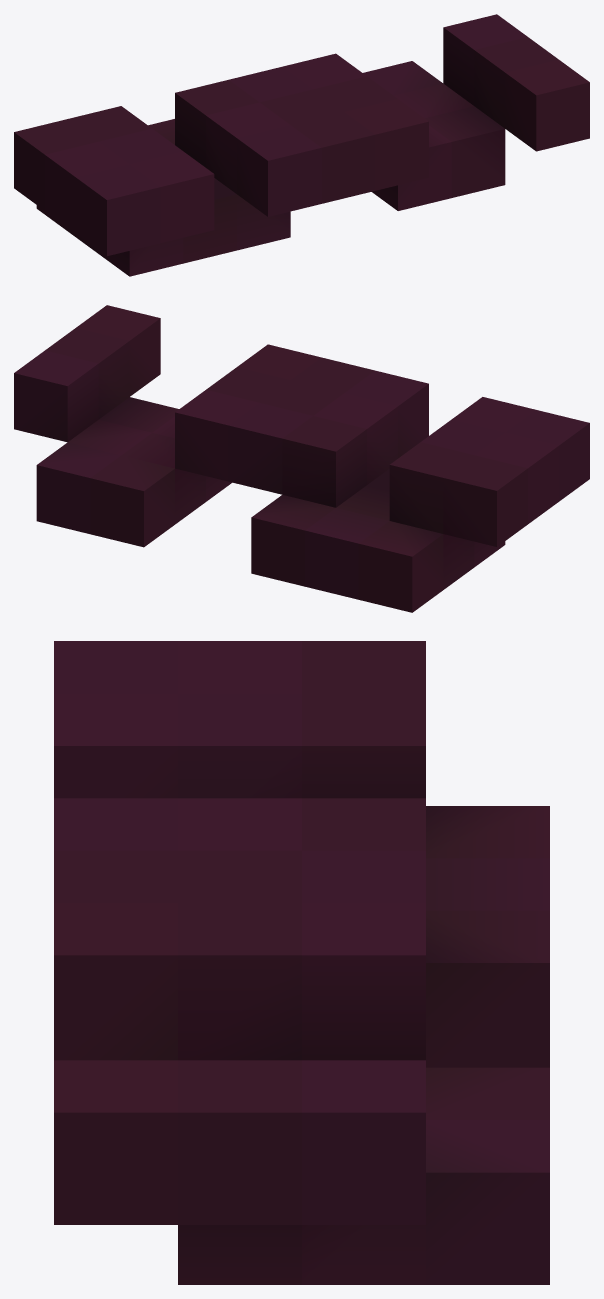
File: mouth_smile.glb
3 renders of one model, top to bottom at view 1: azimuth 30°, elevation 25°; view 2: azimuth 150°, elevation 25°; view 3: azimuth 270°, elevation 25°, orthographic. The views are drawn at different scales.
Parts seen in each view (by area): view 1: mouth_smile; view 2: mouth_smile; view 3: mouth_smile.
Part boxes in pixels (left/top/right/bottom): mouth_smile: left=14, top=14, right=589, bottom=276; mouth_smile: left=14, top=305, right=589, bottom=612; mouth_smile: left=54, top=641, right=549, bottom=1284.
Bounding box in the file's own units: 0.0804 × 0.0179 × 0.0357.
